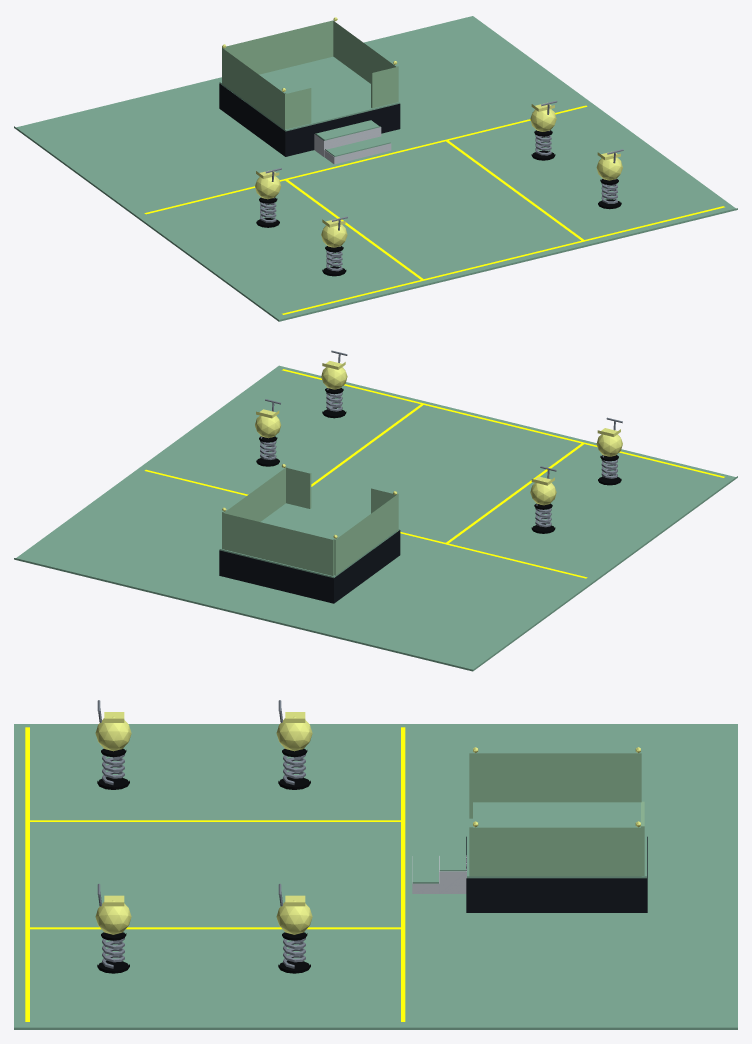
3 renders of one model, top to bottom at view 1: azimuth 30°, elevation 25°; view 2: azimuth 150°, elevation 25°; view 3: azimuth 270°, elevation 25°, orthographic. The views are drawn at different scales.
Parts seen in each view (by area): view 1: Safety_Pad, Deck_Guards, Deck_Top, Toddler_Deck, Court_Line, Deck_Steps, Step_Treads; view 2: Safety_Pad, Deck_Guards, Toddler_Deck, Court_Line, Deck_Top; view 3: Safety_Pad, Deck_Guards, Toddler_Deck, Deck_Top, Court_Line, Step_Treads, Deck_Steps, Rider2_Body, Rider4_Body, Rider1_Body, Rider3_Body.
Part boxes in pixels (x1=…): Safety_Pad: x1=14, y1=16, x2=737, y2=321; Deck_Guards: x1=222, y1=20, x2=398, y2=129; Deck_Top: x1=219, y1=56, x2=399, y2=131; Toddler_Deck: x1=219, y1=83, x2=400, y2=156; Court_Line: x1=144, y1=105, x2=724, y2=314; Deck_Steps: x1=314, y1=127, x2=391, y2=164; Step_Treads: x1=315, y1=120, x2=390, y2=156; Safety_Pad: x1=14, y1=365, x2=737, y2=671; Deck_Guards: x1=222, y1=467, x2=398, y2=575; Toddler_Deck: x1=219, y1=530, x2=400, y2=603; Court_Line: x1=144, y1=369, x2=724, y2=578; Deck_Top: x1=219, y1=503, x2=399, y2=578; Safety_Pad: x1=14, y1=724, x2=737, y2=1029; Deck_Guards: x1=469, y1=753, x2=644, y2=876; Toddler_Deck: x1=466, y1=836, x2=647, y2=912; Deck_Top: x1=467, y1=802, x2=646, y2=878; Court_Line: x1=25, y1=727, x2=405, y2=1021; Step_Treads: x1=412, y1=834, x2=465, y2=883; Deck_Steps: x1=412, y1=855, x2=466, y2=893; Rider2_Body: x1=276, y1=900, x2=312, y2=934; Rider4_Body: x1=95, y1=900, x2=131, y2=934; Rider1_Body: x1=276, y1=716, x2=312, y2=751; Rider3_Body: x1=95, y1=716, x2=131, y2=751.
Size of what is drawn, in the model's own units: 8 by 1.12 by 8.
Materials: 8 (4 with a texture image).
